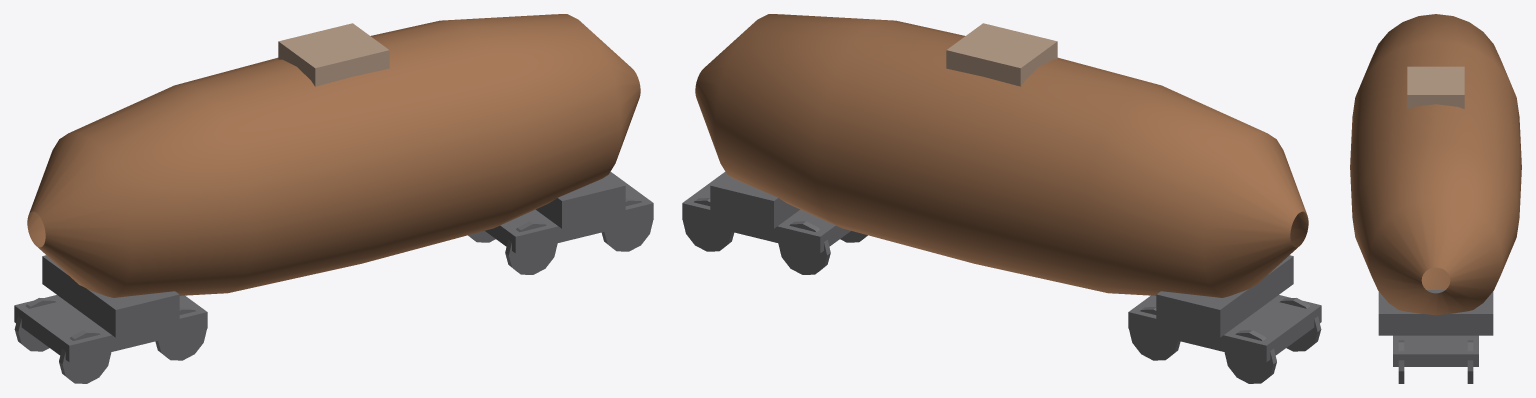
Rendered from TorpedoCar.glb.
3 renders of one model, left to right at view 1: azimuth 30°, elevation 25°; view 2: azimuth 150°, elevation 25°; view 3: azimuth 270°, elevation 25°, orthographic. The views are drawn at different scales.
Parts seen in each view (by area): view 1: Torpedo vessel, Bogie frame, Bolster, Pouring mouth, Bogie frame.001, Bolster.001, Wheel, Wheel.004, Wheel.005, Wheel.001, Wheel.002; view 2: Torpedo vessel, Bogie frame, Bolster, Pouring mouth, Bogie frame.001, Bolster.001, Wheel.002, Wheel.006, Wheel.007, Wheel.003, Wheel; view 3: Torpedo vessel, Bolster.001, Bogie frame.001, Pouring mouth, Wheel.005, Wheel.007.
Boxes of the visible parts, bbox=[...] form: Torpedo vessel: bbox=[27, 14, 640, 297]; Bogie frame: bbox=[14, 295, 207, 362]; Bolster: bbox=[42, 255, 179, 337]; Pouring mouth: bbox=[278, 23, 389, 86]; Bogie frame.001: bbox=[485, 171, 653, 253]; Bolster.001: bbox=[536, 174, 625, 228]; Wheel: bbox=[59, 330, 111, 383]; Wheel.004: bbox=[505, 221, 557, 274]; Wheel.005: bbox=[602, 198, 653, 251]; Wheel.001: bbox=[155, 307, 206, 360]; Wheel.002: bbox=[14, 298, 56, 351]; Torpedo vessel: bbox=[695, 14, 1308, 297]; Bogie frame: bbox=[1128, 295, 1321, 362]; Bolster: bbox=[1156, 255, 1293, 337]; Pouring mouth: bbox=[946, 23, 1057, 86]; Bogie frame.001: bbox=[682, 171, 850, 253]; Bolster.001: bbox=[710, 174, 799, 228]; Wheel.002: bbox=[1224, 330, 1276, 383]; Wheel.006: bbox=[778, 221, 830, 274]; Wheel.007: bbox=[682, 198, 733, 251]; Wheel.003: bbox=[1129, 307, 1180, 360]; Wheel: bbox=[1279, 298, 1321, 351]; Torpedo vessel: bbox=[1350, 14, 1521, 315]; Bolster.001: bbox=[1378, 290, 1493, 335]; Bogie frame.001: bbox=[1393, 335, 1478, 366]; Pouring mouth: bbox=[1407, 66, 1464, 109]; Wheel.005: bbox=[1398, 340, 1404, 383]; Wheel.007: bbox=[1467, 340, 1473, 383].
Bounding box in the file's own units: 11.2 × 4.58 × 3.6.
